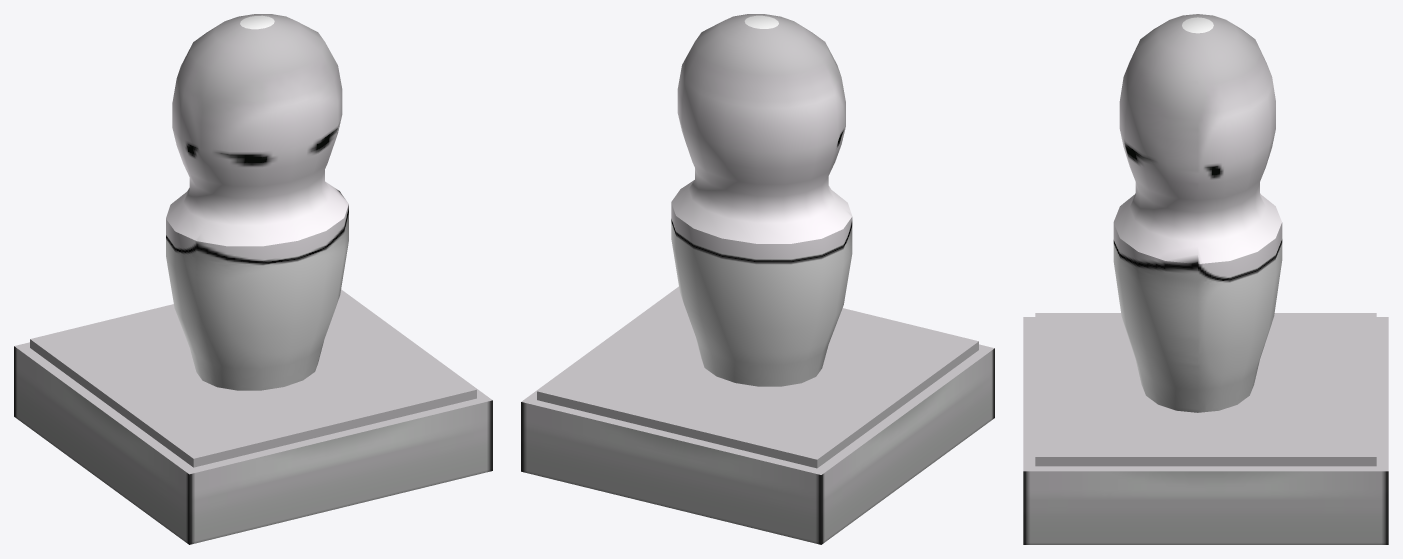
The model's file is Building_Statue.obj.
3 renders of one model, left to right at view 1: azimuth 30°, elevation 25°; view 2: azimuth 150°, elevation 25°; view 3: azimuth 270°, elevation 25°, orthographic. The views are drawn at different scales.
Visible parts, largest first — view 1: Body; view 2: Body; view 3: Body.
Part boxes in pixels (x1=…): Body: x1=14, y1=14, x2=492, y2=544; Body: x1=521, y1=14, x2=994, y2=544; Body: x1=1023, y1=14, x2=1388, y2=544.
Size of the model in its own units: 0.9 by 1.2 by 0.9.
1 material, 1 textured.
